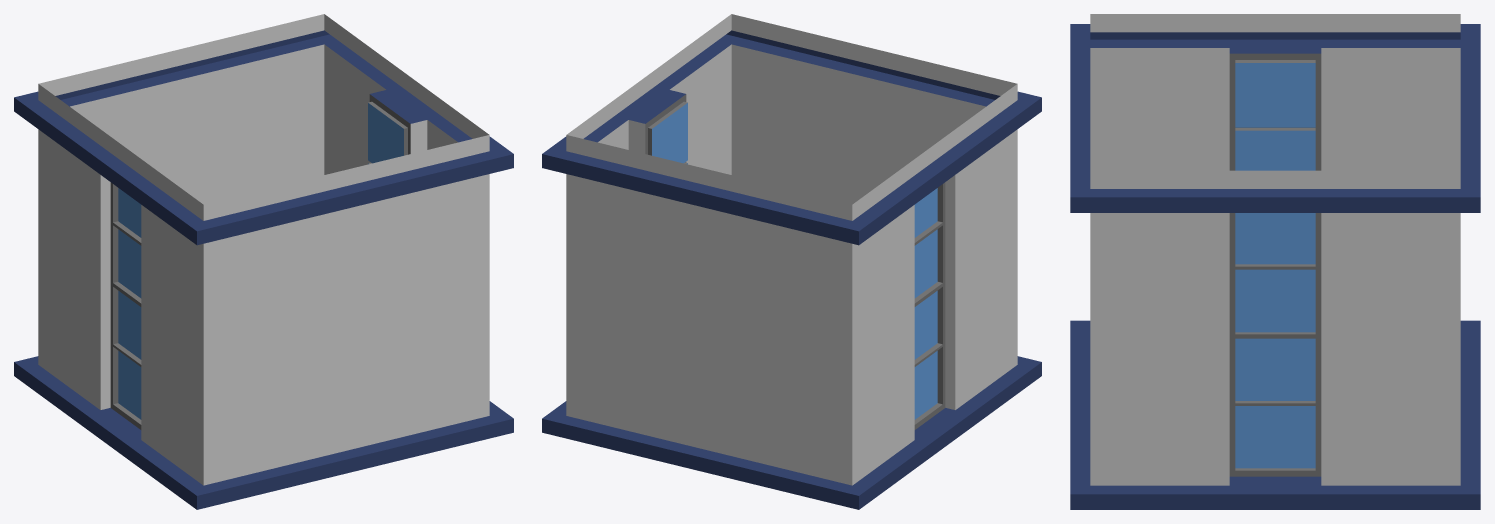
File: House1Part4.fbx
The picture shows the model from 3 angles, left to right: view 1: azimuth 30°, elevation 25°; view 2: azimuth 150°, elevation 25°; view 3: azimuth 270°, elevation 25°; orthographic projection. The views are drawn at different scales.
Visible parts, largest first — view 1: Cube.014; view 2: Cube.014; view 3: Cube.014.
Part boxes in pixels (box(x1,y1,x2,y2)): Cube.014: box(14, 14, 513, 509); Cube.014: box(542, 14, 1041, 509); Cube.014: box(1070, 14, 1480, 509).
Bounding box in the file's own units: 222 × 200 × 222.
